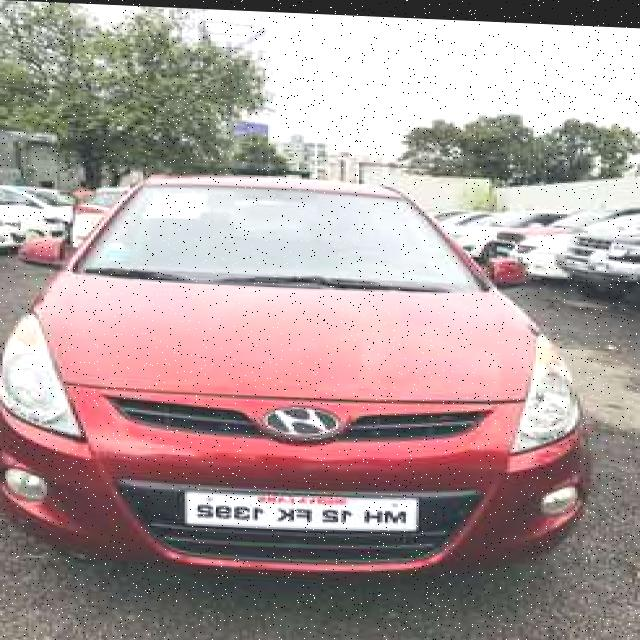plate: (183, 486, 418, 535)
